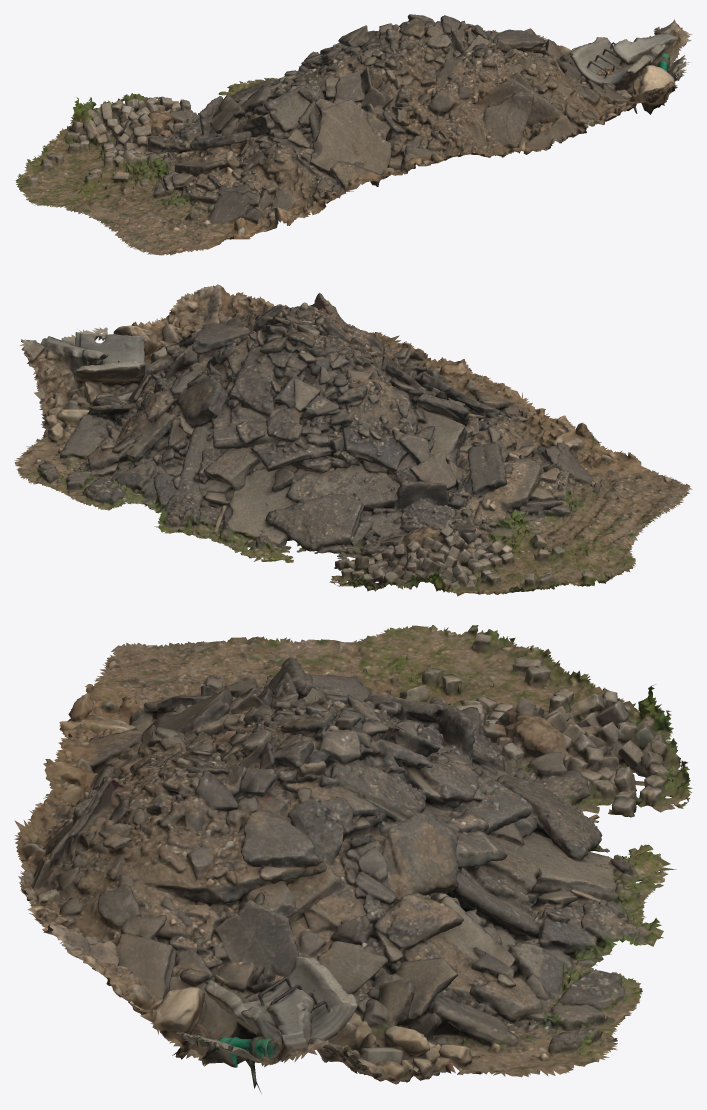
3 renders of one model, top to bottom at view 1: azimuth 30°, elevation 25°; view 2: azimuth 150°, elevation 25°; view 3: azimuth 270°, elevation 25°, orthographic. The views are drawn at different scales.
Parts seen in each view (by area): view 1: default; view 2: default; view 3: default.
Part boxes in pixels (x1,y1,x2,y2): default: (15, 14, 692, 255); default: (14, 284, 692, 596); default: (14, 625, 692, 1093).
Bounding box in the file's own units: 43.13 × 8.18 × 24.45.
1 material, 1 textured.
